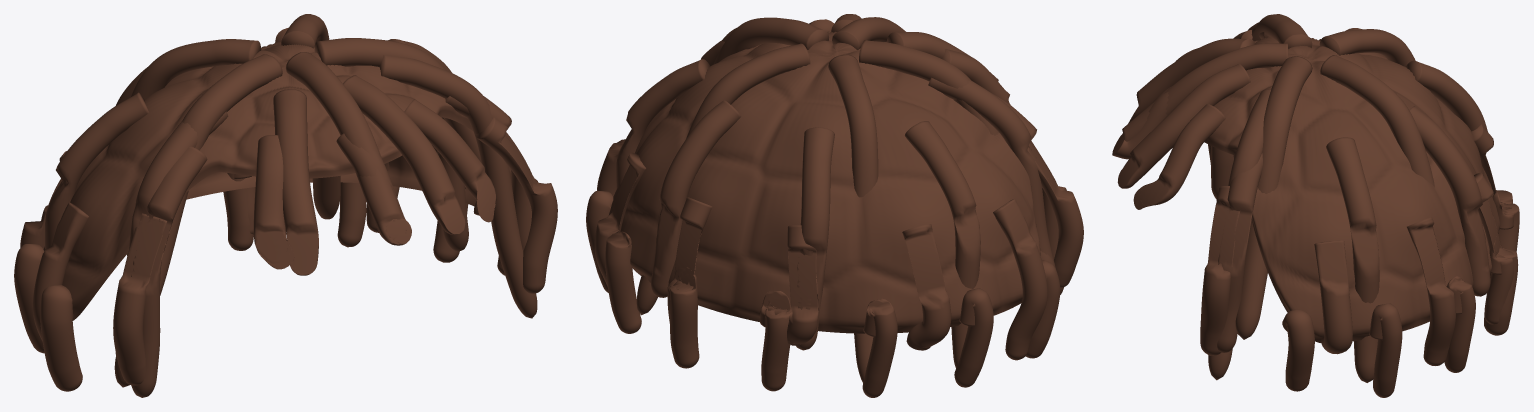
File: Masculine-locs-headband252-hair.glb
3 views of the same model, side by side, from view 1: azimuth 30°, elevation 25°; view 2: azimuth 150°, elevation 25°; view 3: azimuth 270°, elevation 25° (orthographic). The views are drawn at different scales.
Parts seen in each view (by area): view 1: 226 hair / Hair252 / sectioned locs.001; view 2: 226 hair / Hair252 / sectioned locs.001; view 3: 226 hair / Hair252 / sectioned locs.001.
Part boxes in pixels (bbox=[...]): 226 hair / Hair252 / sectioned locs.001: bbox=[14, 14, 557, 397]; 226 hair / Hair252 / sectioned locs.001: bbox=[586, 14, 1083, 397]; 226 hair / Hair252 / sectioned locs.001: bbox=[1112, 14, 1519, 397].
Size of the model in its own units: 1.1 by 0.6395 by 0.8891.
